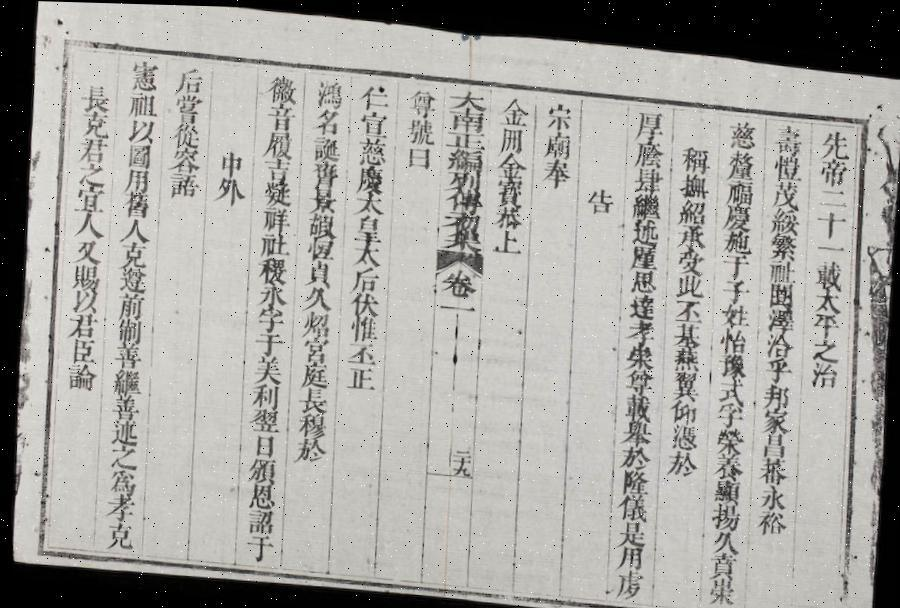c: (436, 264, 478, 298), (125, 56, 162, 92), (263, 70, 301, 103), (816, 122, 852, 156), (810, 253, 844, 288), (770, 118, 805, 152), (77, 78, 113, 111), (356, 78, 393, 110), (445, 104, 487, 132), (442, 184, 484, 212), (723, 144, 757, 178), (610, 564, 644, 598), (495, 92, 530, 125), (311, 74, 346, 107), (632, 105, 667, 138), (724, 114, 760, 146), (99, 518, 135, 550), (172, 63, 208, 95), (210, 172, 246, 204), (60, 361, 97, 392), (442, 144, 484, 171), (666, 365, 700, 398), (354, 133, 389, 165), (404, 84, 439, 116), (170, 91, 205, 123), (239, 530, 274, 562), (100, 491, 136, 522), (706, 496, 742, 527), (812, 204, 848, 235), (814, 153, 850, 184), (661, 444, 698, 474), (768, 174, 802, 206), (489, 224, 523, 256), (582, 182, 616, 214), (677, 140, 712, 171), (260, 128, 296, 158), (254, 254, 290, 284), (402, 114, 438, 144), (262, 100, 298, 130), (708, 447, 744, 477), (123, 88, 159, 118), (62, 310, 98, 340), (164, 170, 200, 200), (70, 184, 107, 213), (447, 84, 488, 110), (542, 98, 575, 130), (539, 156, 572, 188), (710, 421, 744, 452), (352, 162, 386, 193), (296, 332, 330, 363), (753, 450, 788, 480), (107, 366, 142, 396), (630, 136, 665, 166), (351, 212, 386, 242), (805, 355, 840, 385), (249, 352, 284, 382), (76, 108, 112, 137), (74, 134, 110, 163), (113, 290, 146, 321), (713, 371, 746, 402), (672, 243, 706, 273), (770, 148, 804, 178), (766, 202, 800, 232), (702, 572, 736, 602), (612, 514, 646, 544), (252, 302, 286, 332), (168, 119, 203, 148), (70, 209, 105, 238), (166, 144, 202, 172), (440, 226, 482, 250), (629, 188, 662, 218), (443, 128, 488, 150), (493, 149, 526, 179), (541, 128, 574, 158), (258, 177, 292, 206), (244, 454, 278, 483), (622, 338, 656, 367), (356, 106, 390, 135), (105, 417, 139, 446), (294, 383, 328, 412), (290, 433, 324, 462), (104, 442, 139, 470), (614, 488, 649, 516), (116, 215, 151, 243), (440, 207, 482, 230), (310, 104, 342, 134), (346, 312, 378, 342), (214, 145, 246, 175), (307, 159, 340, 188), (715, 322, 748, 351), (675, 194, 708, 223), (492, 177, 525, 206), (245, 404, 279, 432), (630, 162, 664, 190), (256, 229, 290, 257), (308, 132, 342, 160), (67, 262, 101, 290), (122, 116, 156, 144), (718, 247, 752, 275), (241, 506, 275, 534), (114, 265, 148, 293), (752, 503, 786, 531), (762, 301, 796, 329), (346, 264, 380, 292), (621, 364, 655, 392), (495, 123, 526, 153), (761, 326, 793, 355), (298, 307, 330, 336), (666, 418, 698, 447), (758, 377, 790, 406), (766, 228, 798, 257), (720, 199, 752, 228), (119, 189, 151, 218), (122, 139, 154, 168), (704, 546, 736, 575), (754, 477, 786, 506), (718, 272, 750, 301), (243, 480, 275, 509), (258, 203, 290, 232), (305, 184, 338, 212), (669, 316, 702, 344), (722, 174, 755, 202), (298, 282, 331, 310), (677, 168, 710, 196), (304, 210, 337, 238), (349, 238, 382, 266), (70, 236, 103, 264), (110, 340, 143, 368), (346, 288, 379, 316), (116, 240, 150, 267), (63, 336, 97, 363), (343, 362, 377, 389), (344, 339, 378, 366), (616, 440, 651, 466), (351, 189, 386, 215), (292, 410, 327, 436), (672, 268, 704, 296), (248, 380, 280, 408), (66, 286, 98, 314), (612, 540, 644, 568), (715, 347, 747, 375), (628, 214, 660, 242), (624, 314, 656, 342), (757, 402, 789, 430), (718, 297, 750, 325), (760, 351, 792, 379), (626, 264, 658, 292), (616, 464, 648, 492), (107, 393, 140, 420), (103, 467, 136, 494), (712, 396, 745, 423), (618, 415, 651, 442), (254, 280, 288, 306), (670, 292, 704, 318), (442, 167, 484, 188), (764, 276, 795, 304), (302, 258, 333, 286), (674, 220, 706, 247), (808, 305, 840, 332), (808, 331, 840, 358), (620, 389, 652, 416), (402, 142, 434, 169), (709, 473, 741, 500), (666, 394, 698, 421), (74, 161, 107, 187), (491, 202, 524, 228), (296, 360, 329, 386), (668, 342, 701, 368), (112, 316, 142, 344), (120, 165, 151, 192), (627, 241, 658, 268), (720, 225, 752, 251), (260, 154, 292, 180), (252, 328, 284, 354), (706, 524, 738, 550), (624, 290, 656, 316), (302, 235, 335, 260), (436, 295, 475, 316), (247, 429, 276, 457), (757, 427, 787, 454), (765, 254, 796, 280), (810, 284, 842, 308), (816, 181, 848, 205), (812, 235, 846, 254), (451, 442, 470, 456), (449, 462, 471, 473), (448, 454, 470, 464)
